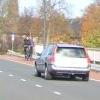cars: (35, 44, 92, 82)
